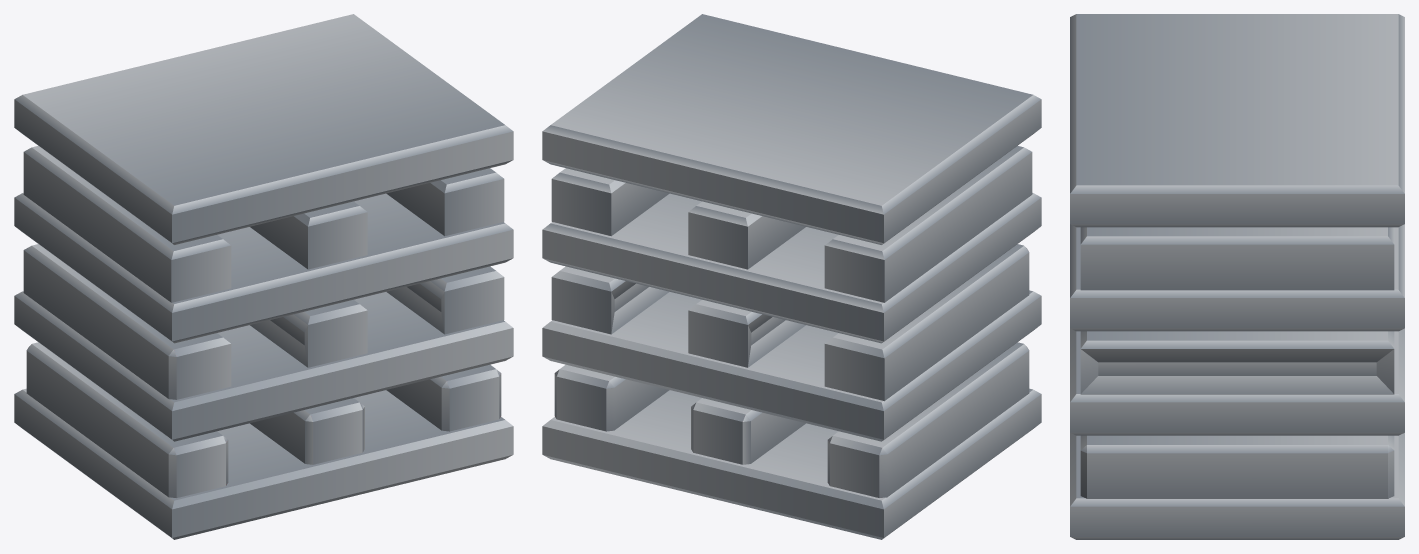
File: dt_pallet_stack.fbx
3 renders of one model, left to right at view 1: azimuth 30°, elevation 25°; view 2: azimuth 150°, elevation 25°; view 3: azimuth 270°, elevation 25°, orthographic. The views are drawn at different scales.
Parts seen in each view (by area): view 1: dt_pallet_stack; view 2: dt_pallet_stack; view 3: dt_pallet_stack.
Part boxes in pixels (x1=…): dt_pallet_stack: x1=14, y1=14, x2=513, y2=539; dt_pallet_stack: x1=542, y1=14, x2=1041, y2=539; dt_pallet_stack: x1=1070, y1=14, x2=1404, y2=539.
Bounding box in the file's own units: 500 × 468 × 400.
